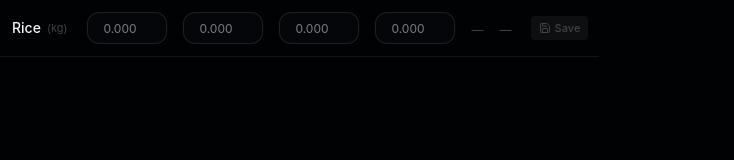
Test: InventoryTableRow › shows error when opening stock is negative
This screenshot has width=734, height=160.
Type "-5" into the number field named "Opening stock for Rice" at (128, 28), box [88, 12, 168, 44]
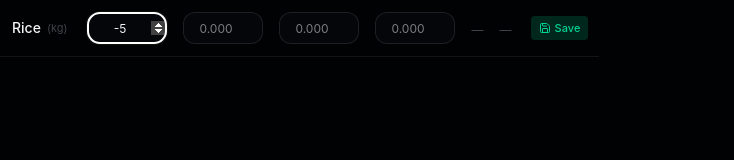
Click the button with aria-label "Save Rice stock" at (560, 28), box [531, 16, 588, 40]
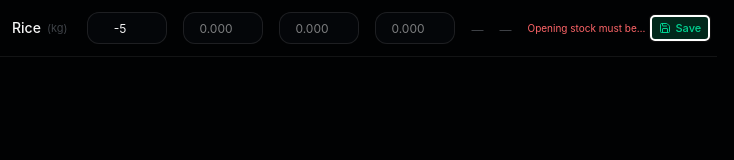
Expected: the text titled "non-negative" is shown, [528, 20, 648, 36]
